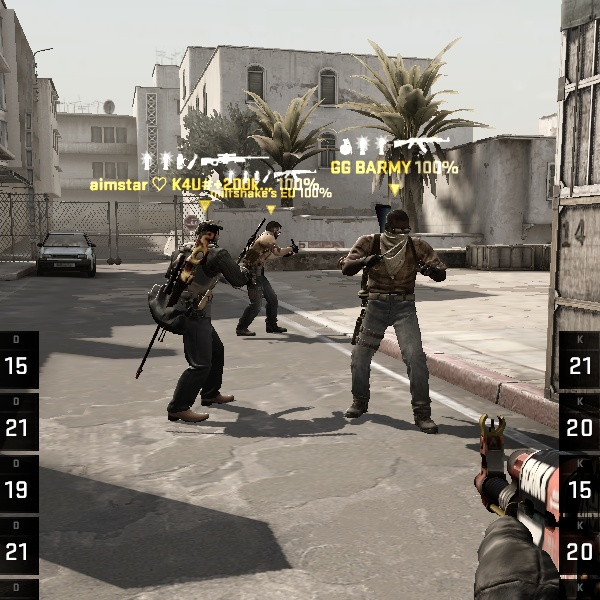t_body: (324, 200, 453, 428), (132, 216, 250, 422), (232, 213, 302, 340)
t_head: (373, 201, 420, 249), (185, 215, 227, 260)
